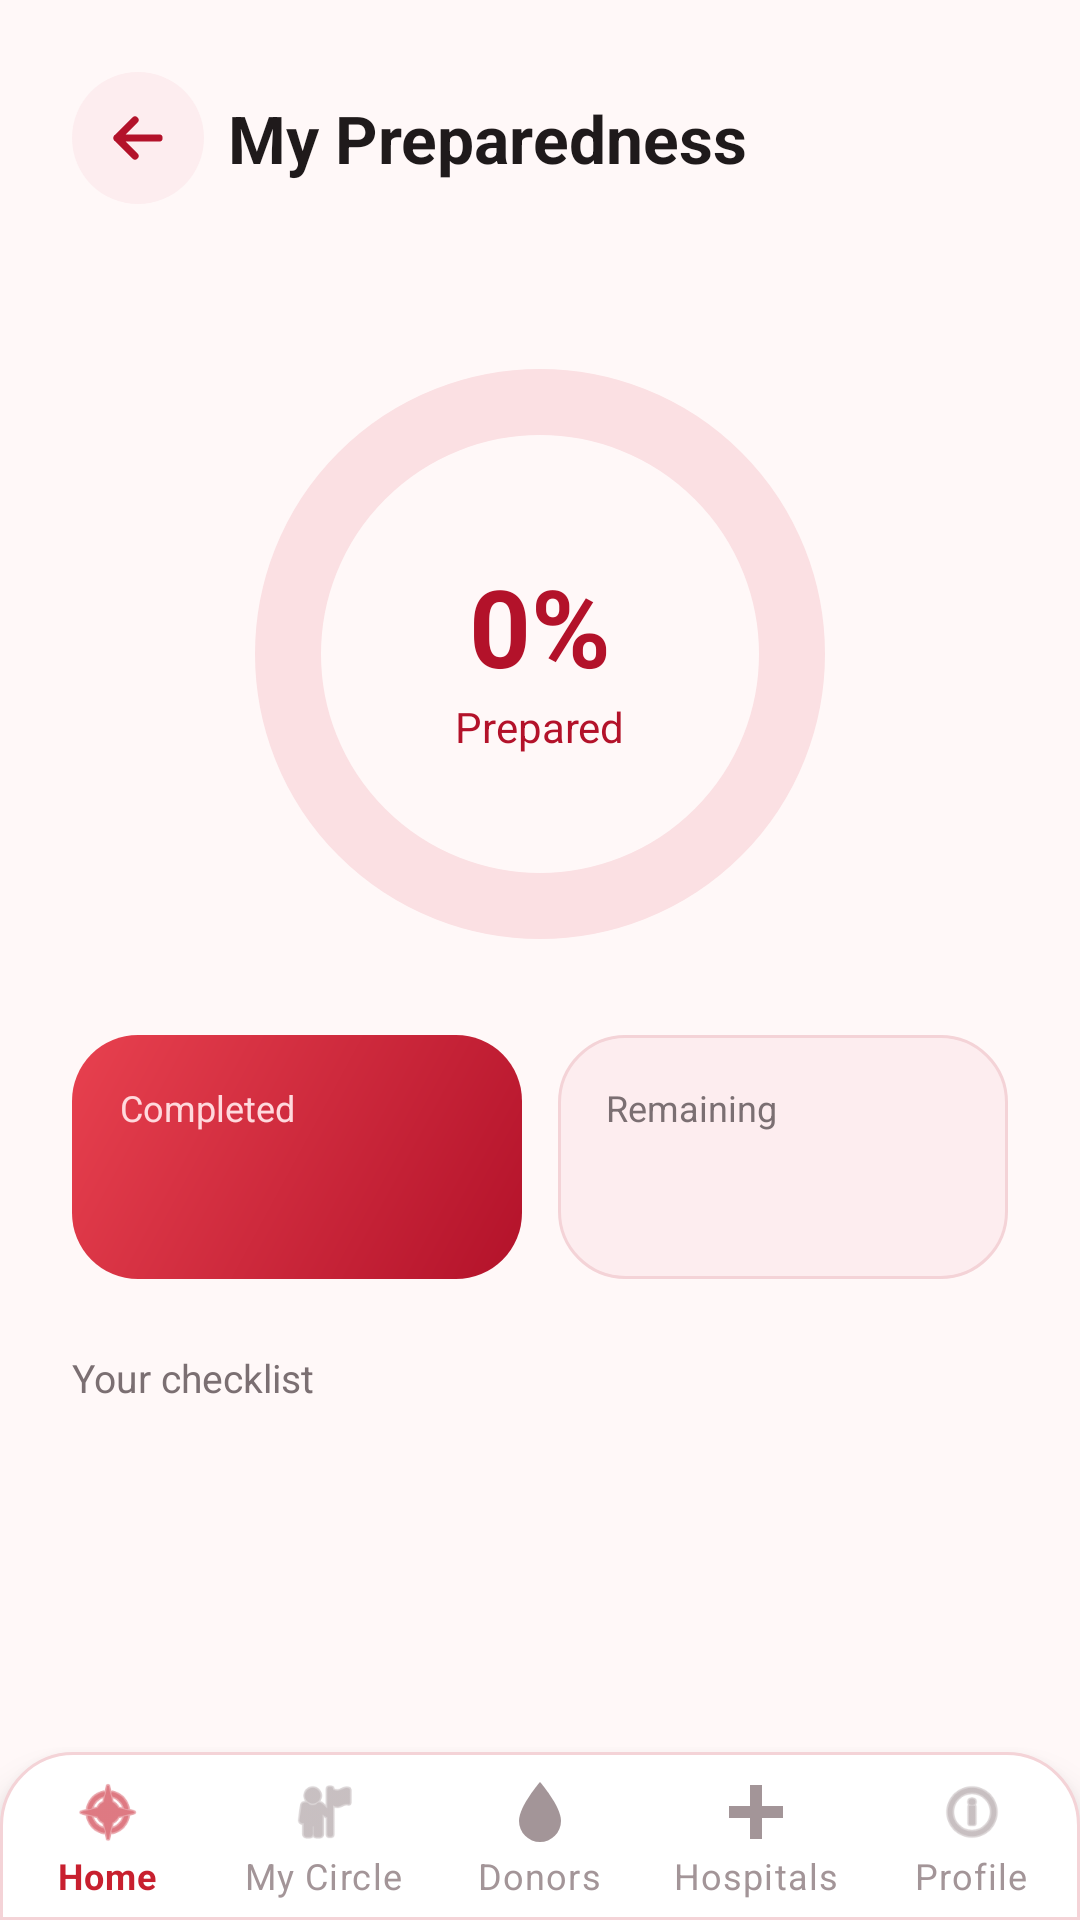

Where to tap for icons on this 1080x1920 app screen, as point (x, y):
Back: point (138, 138)
